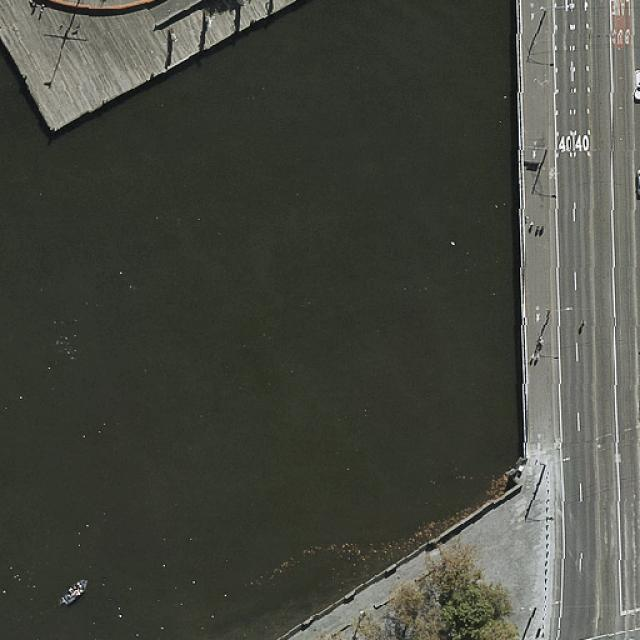Bike-Symbols: (548, 164, 557, 180), (554, 437, 561, 449)
